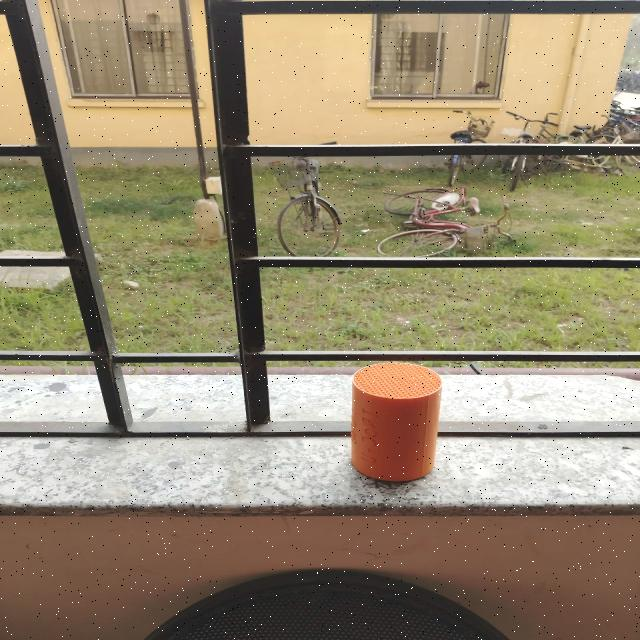Cylinder: (350, 361, 444, 482)
